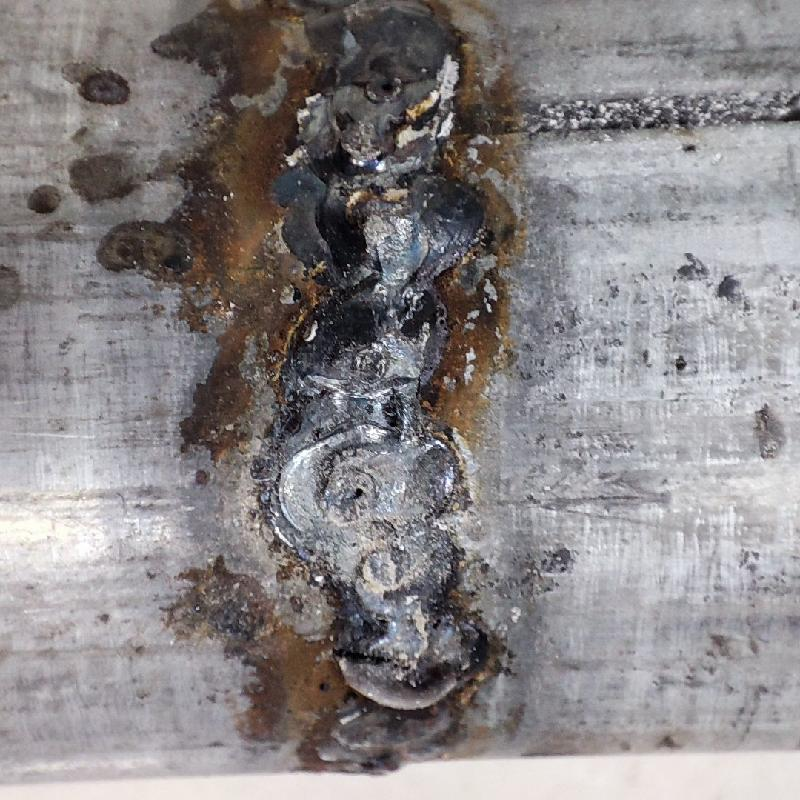Not_fully_soldered: (265, 421, 478, 628)
Surface_pores: (319, 471, 389, 518), (368, 65, 411, 110)
Weld: (337, 640, 489, 714)
wrong_size: (263, 1, 488, 416)
